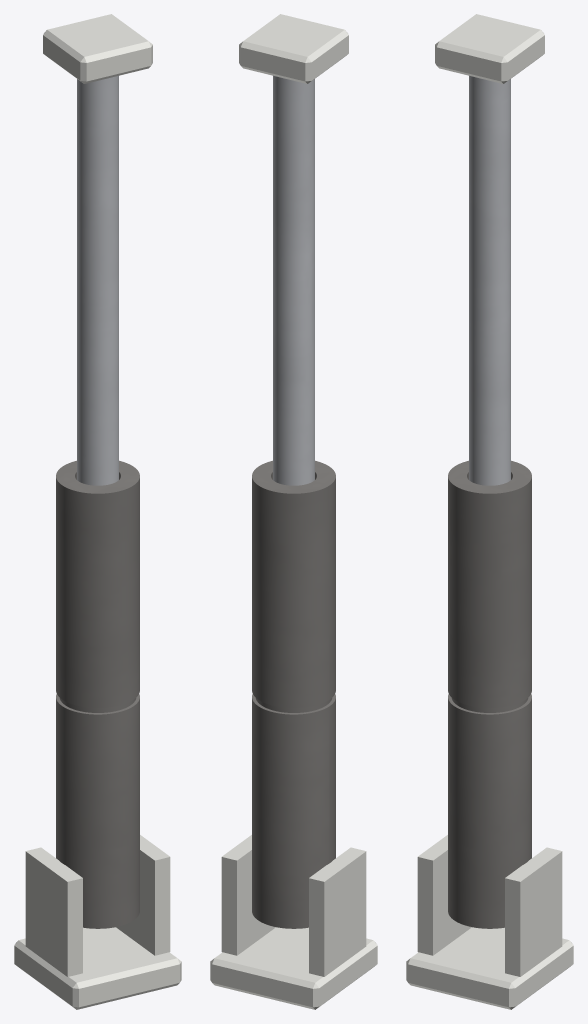
The model's file is ax_util_14_linear_actuator_m_extended.glb.
3 renders of one model, left to right at view 1: azimuth 30°, elevation 25°; view 2: azimuth 150°, elevation 25°; view 3: azimuth 330°, elevation 25°, orthographic.
Visible parts, largest first — view 1: cylinder, base_clevis, rod, rod_eye; view 2: cylinder, base_clevis, rod, rod_eye; view 3: cylinder, base_clevis, rod, rod_eye.
Part boxes in pixels (box(x1,y1,x2,y2)): cylinder: box(56, 460, 139, 928); base_clevis: box(14, 835, 181, 1009); rod: box(77, 75, 118, 485); rod_eye: box(43, 14, 152, 83); cylinder: box(252, 460, 335, 928); base_clevis: box(210, 835, 377, 1009); rod: box(273, 75, 314, 485); rod_eye: box(239, 14, 348, 83); cylinder: box(448, 460, 531, 928); base_clevis: box(406, 835, 573, 1009); rod: box(469, 75, 510, 485); rod_eye: box(435, 14, 544, 83).
Bounding box in the file's own units: 0.21 × 1.73 × 0.21.
3 materials, 2 textured.
